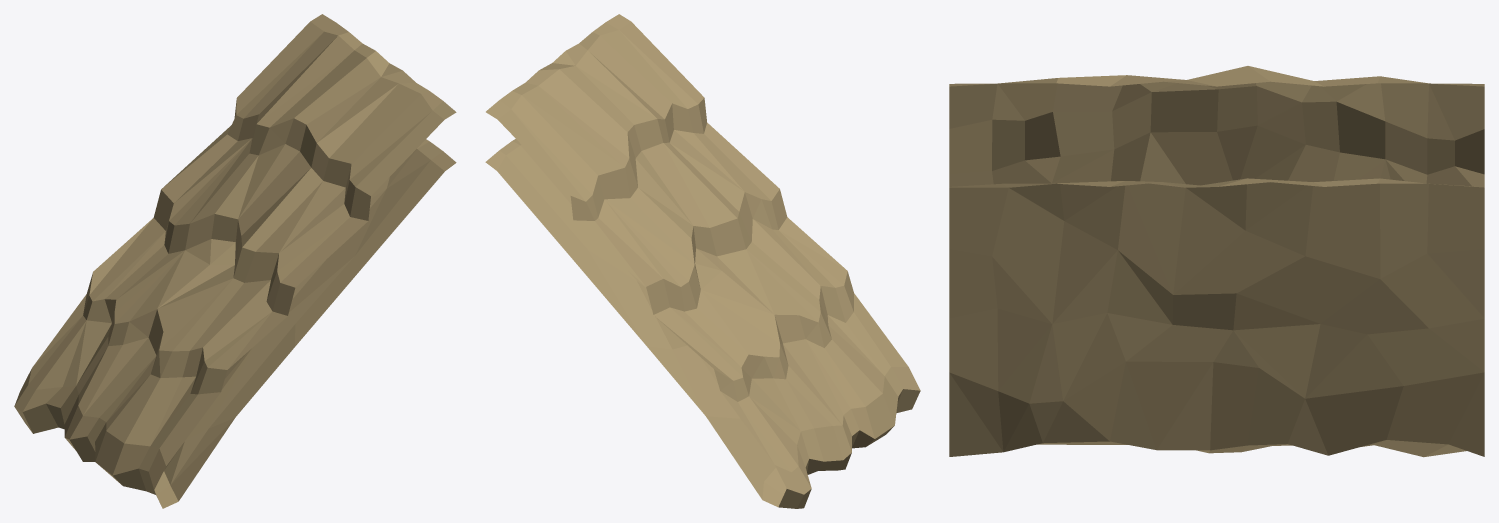
Rendered from rpgpp_ag_roof_02a_6x3x3_half.fbx.
The picture shows the model from 3 angles, left to right: view 1: azimuth 30°, elevation 25°; view 2: azimuth 150°, elevation 25°; view 3: azimuth 270°, elevation 25°; orthographic projection. The views are drawn at different scales.
Parts seen in each view (by area): view 1: rpgpp_ag_roof_02a_6x3x3_half; view 2: rpgpp_ag_roof_02a_6x3x3_half; view 3: rpgpp_ag_roof_02a_6x3x3_half.
Boxes of the visible parts, x1,y1,x2,y2 form: rpgpp_ag_roof_02a_6x3x3_half: [14, 14, 456, 508]; rpgpp_ag_roof_02a_6x3x3_half: [485, 14, 920, 508]; rpgpp_ag_roof_02a_6x3x3_half: [949, 66, 1484, 457].
Bounding box in the file's own units: 4.05 × 4.16 × 3.
